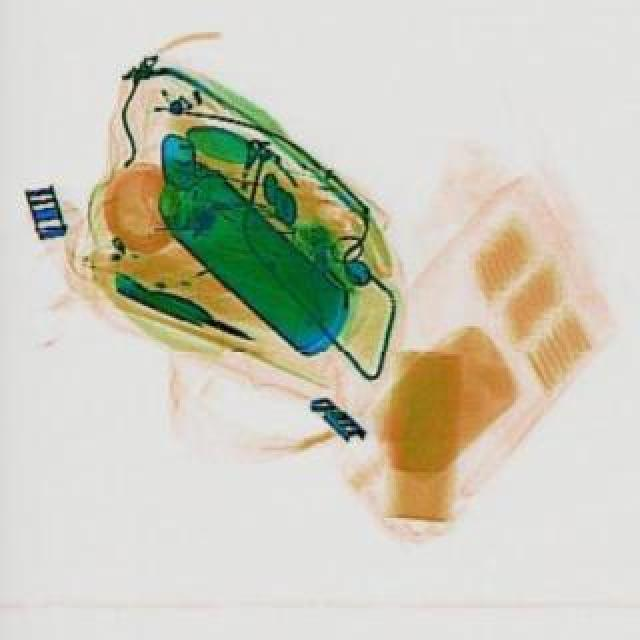knife: (108, 266, 256, 346)
